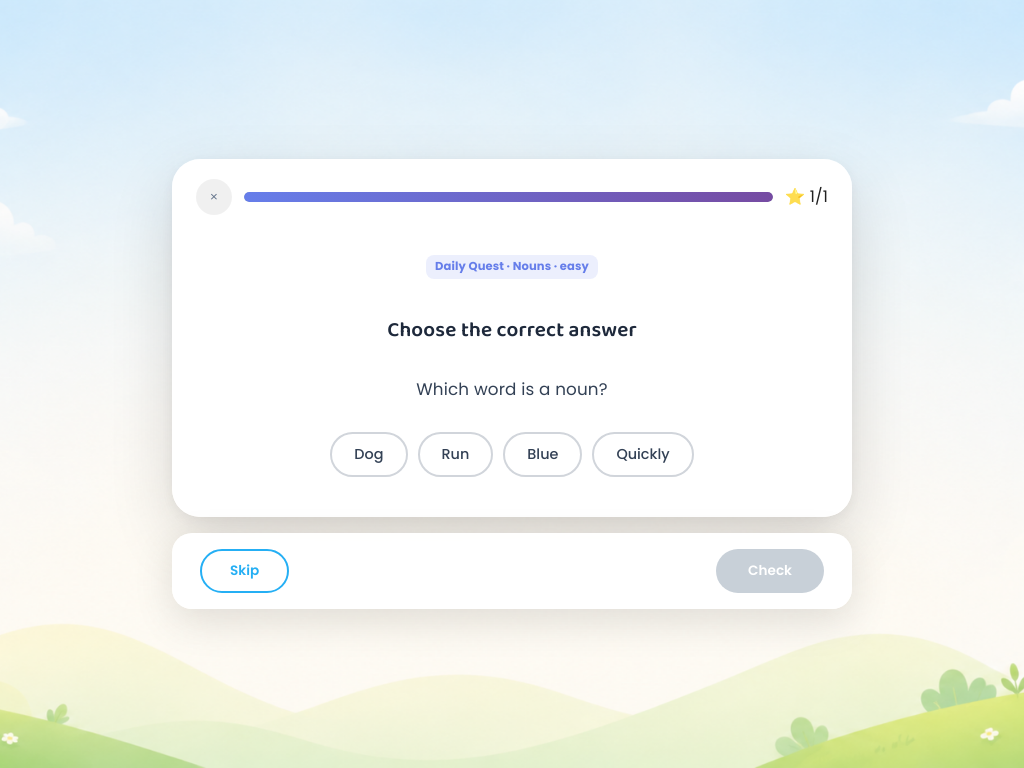
Test: DailyQuestPage › shows positive feedback after selecting correct answer
Click the button "Dog".
click(369, 454)  # box [330, 432, 408, 477]
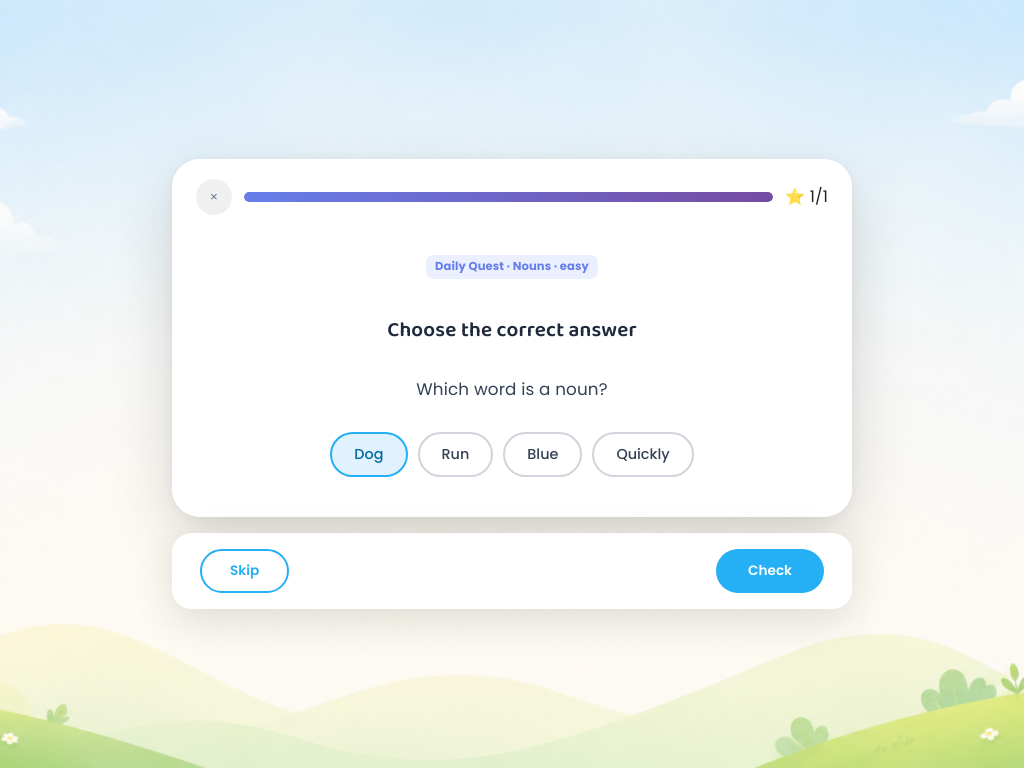
Click the button "Check".
click(770, 571)  # box [716, 549, 824, 593]
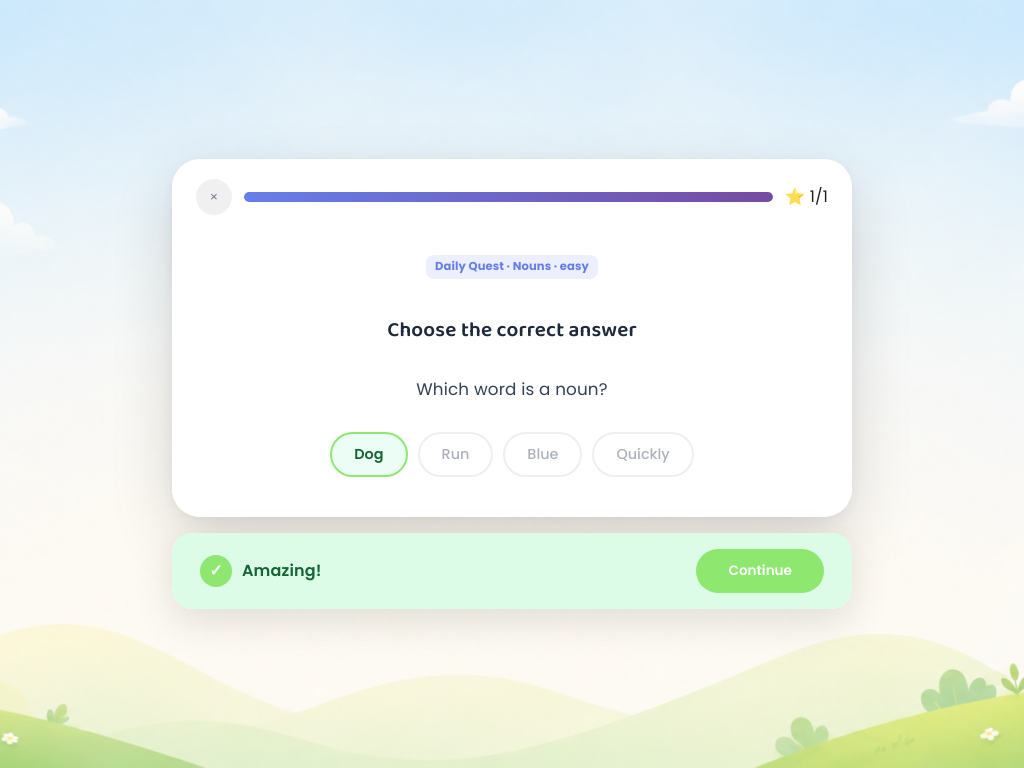
Now the text "Amazing!" is shown, box [242, 559, 322, 583]
